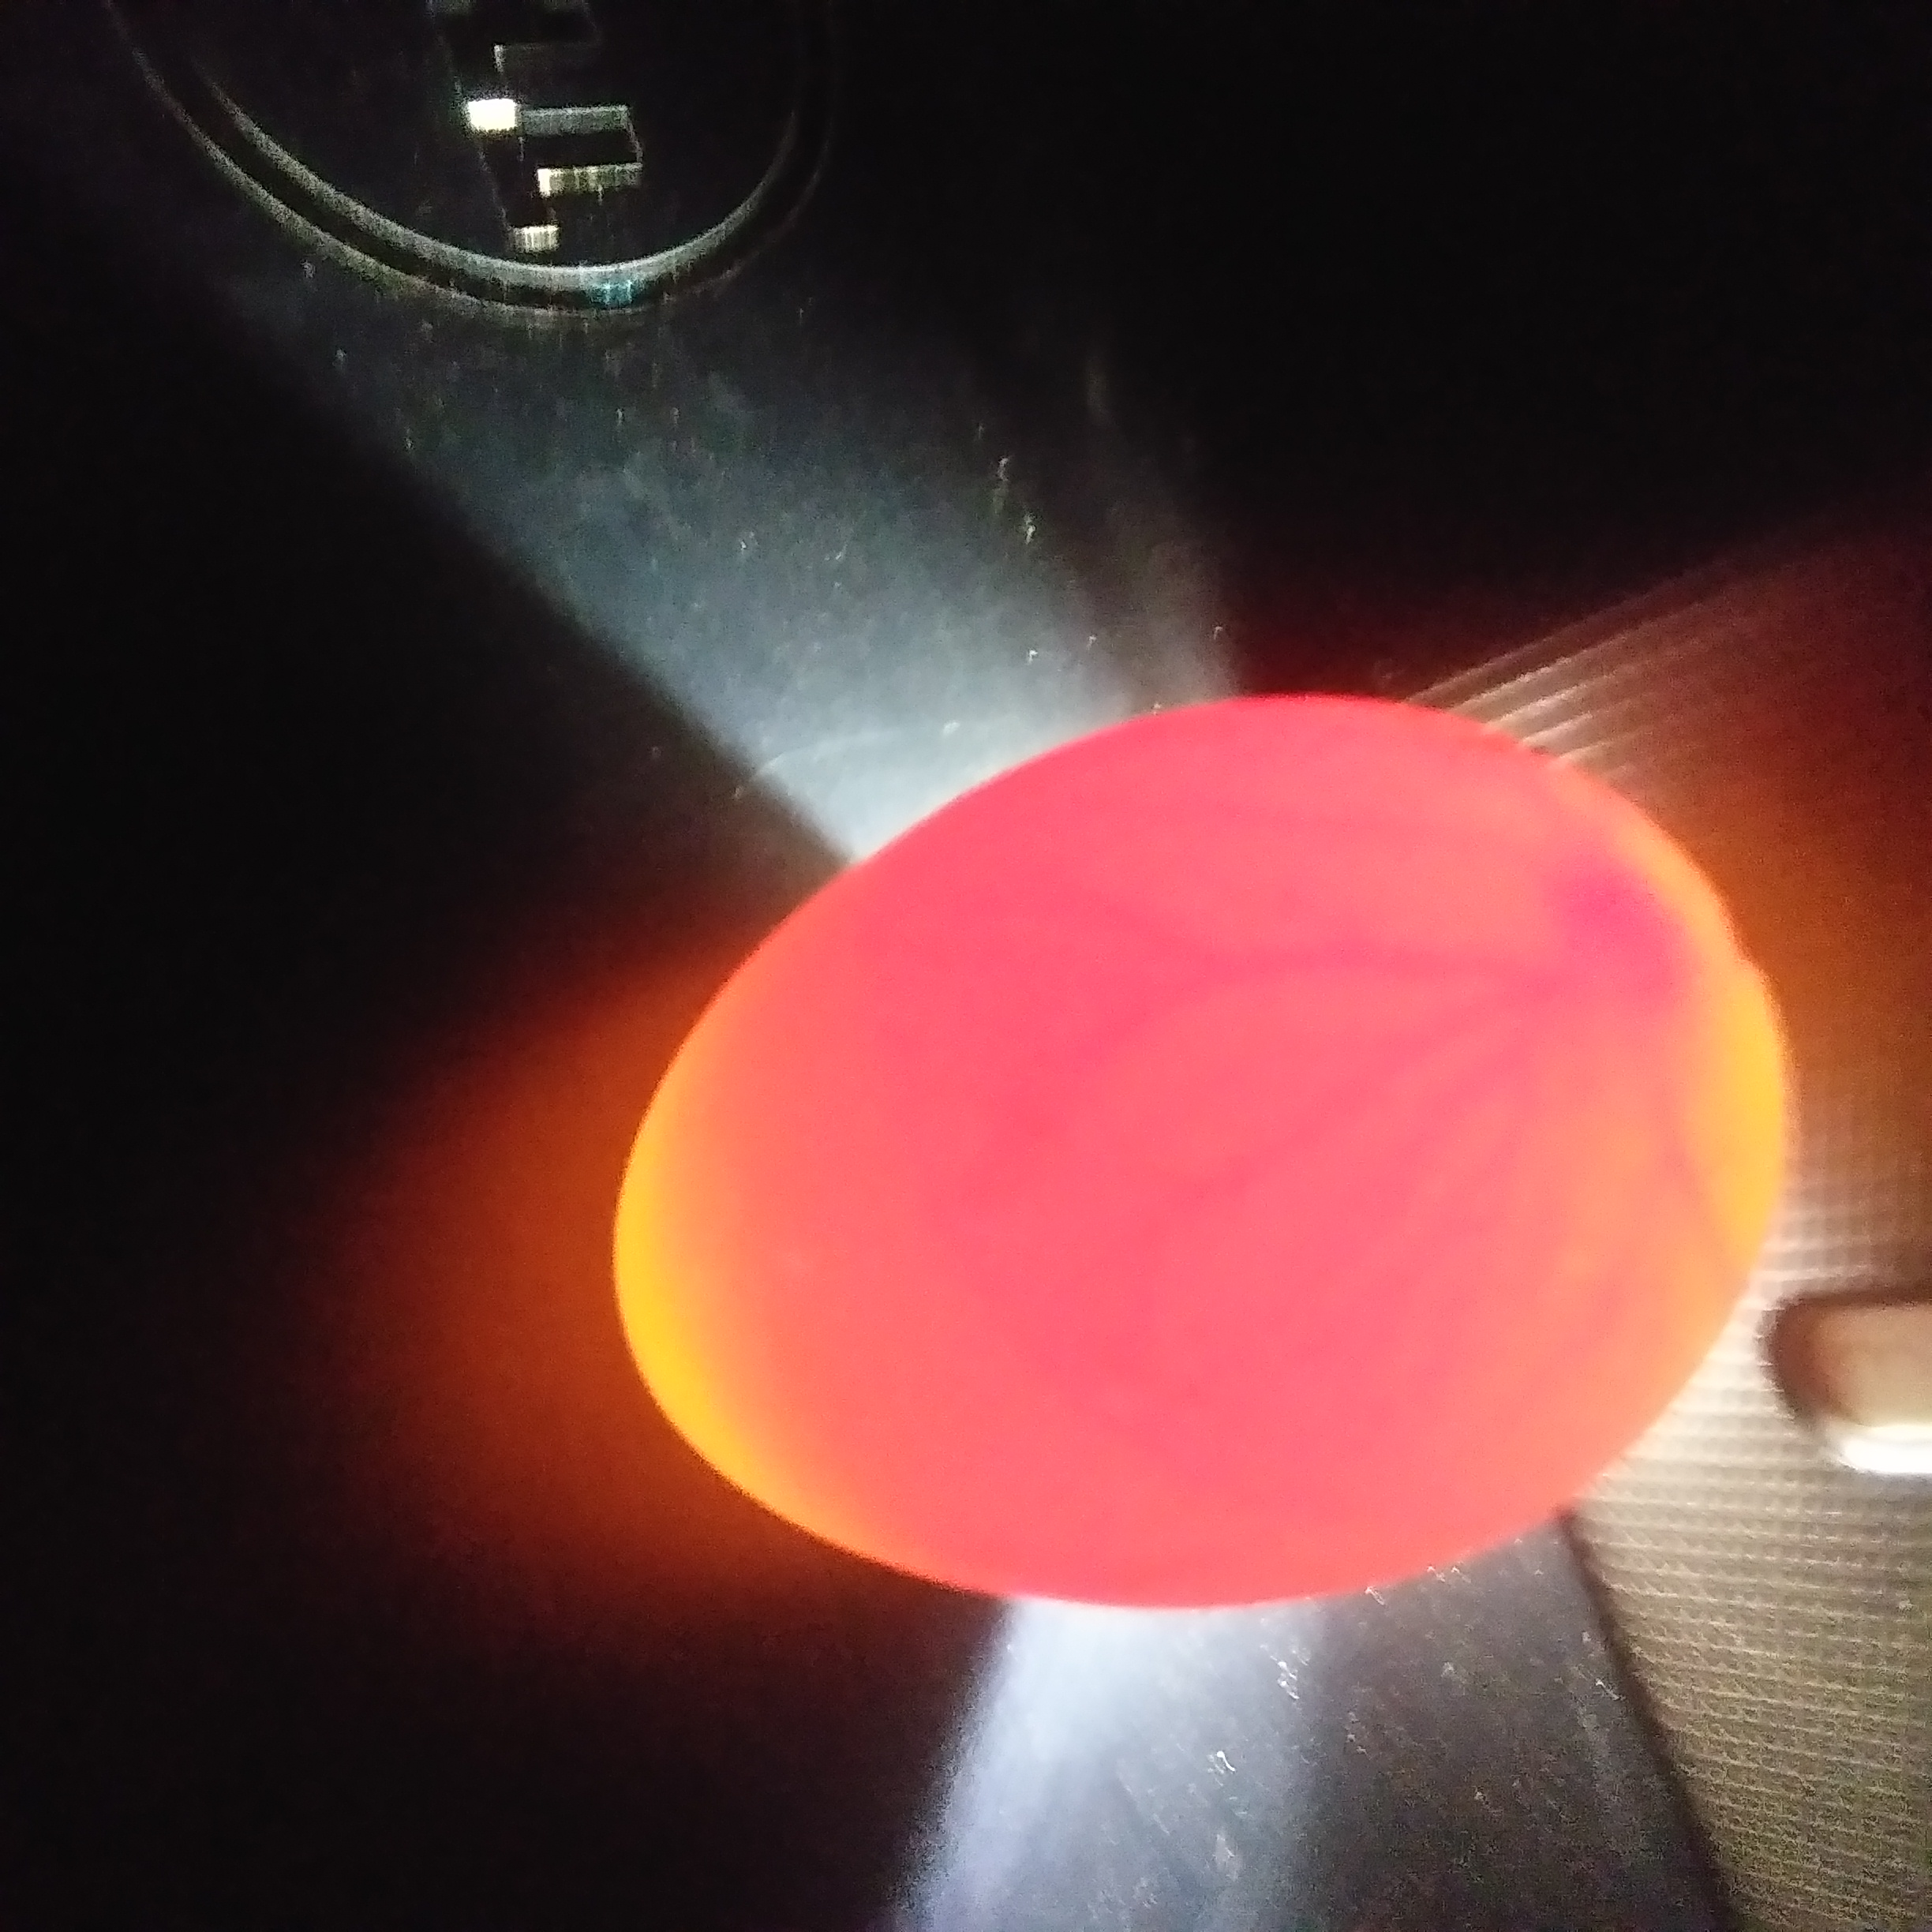bloodcell: (1106, 807, 1552, 1463)
embryo: (1564, 846, 1714, 1054)
